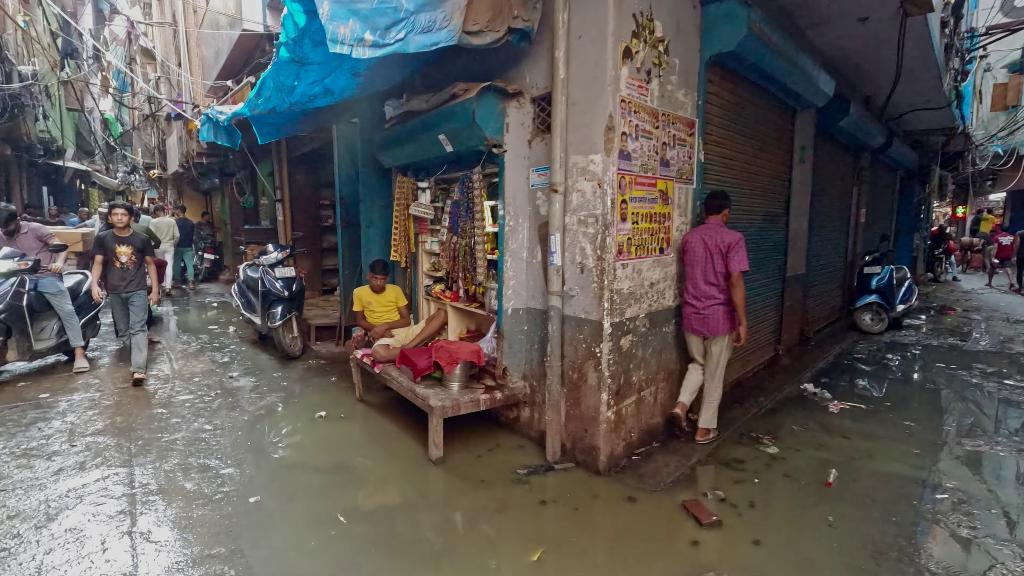garbage: (799, 383, 833, 402), (315, 411, 328, 420)
